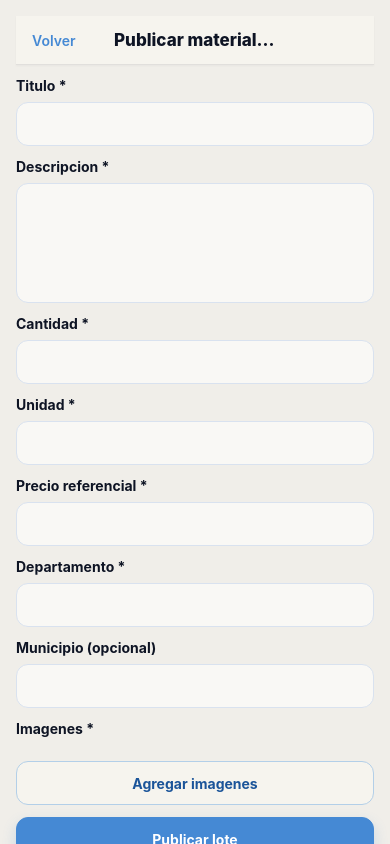
it: rechaza mas de tres imagenes
The width and height of the screenshot is (390, 844).
Expected: the text "Publicar lote" is shown, [152,830,238,843]
Click the text "Agregar imagenes".
click(195, 783)  # box [132,774,258,792]
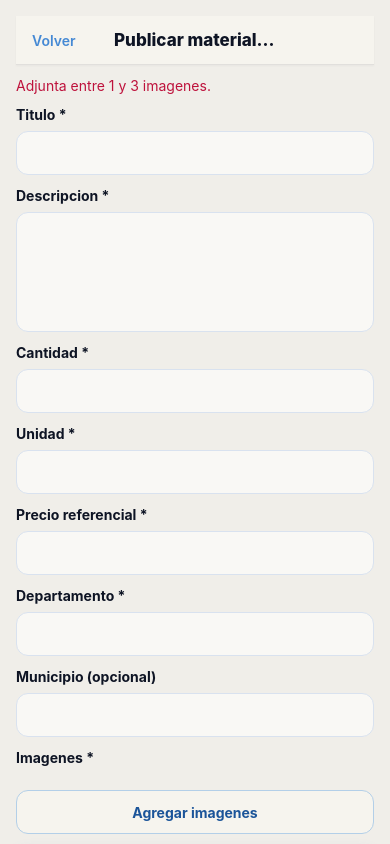
Now the text "Adjunta entre 1 y 3 imagenes." is shown, box [16,77,211,94]
